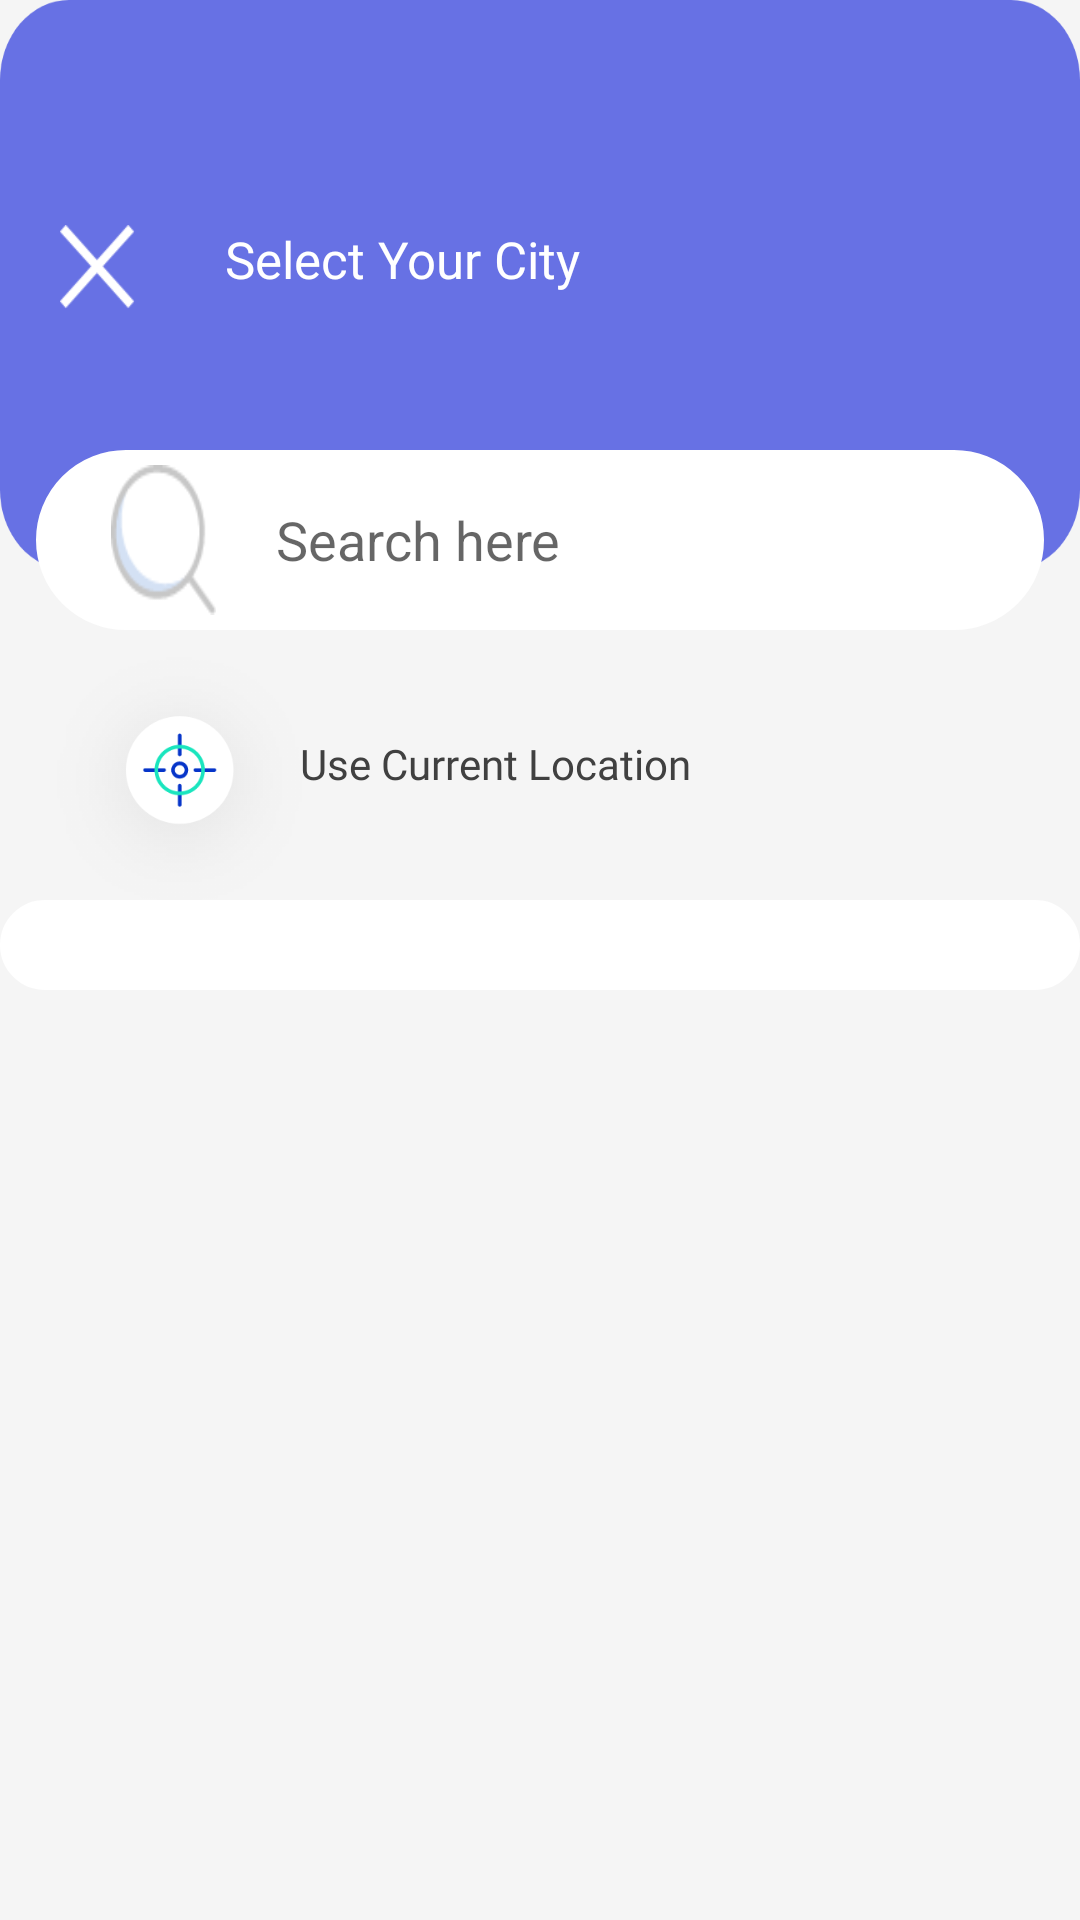

Icons on this 1080x1920 Android screen, each with its box as (x1, y1, x2, y2):
cross: (60, 225, 134, 308)
